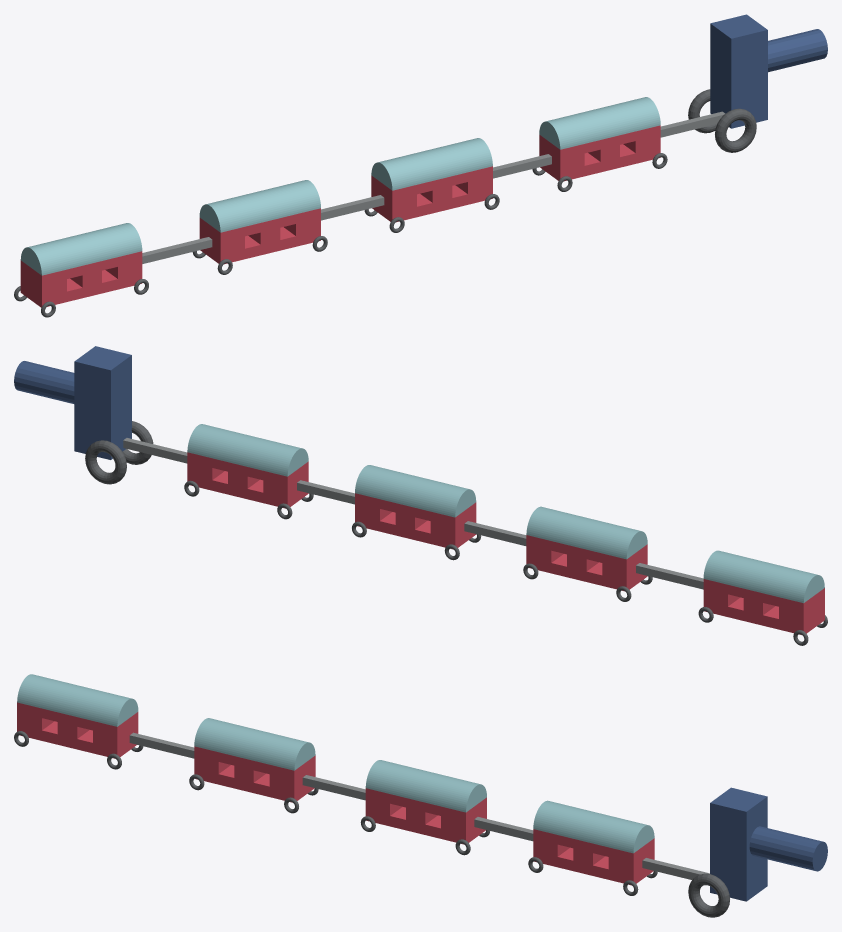
File: Project 150 - Train in the Dessert.glb
The picture shows the model from 3 angles, top to bottom: view 1: azimuth 30°, elevation 25°; view 2: azimuth 150°, elevation 25°; view 3: azimuth 330°, elevation 25°; orthographic projection.
Visible parts, largest first — view 1: Mesh_Mesh_head_geo.001_lambert2SG.001; view 2: Mesh_Mesh_head_geo.001_lambert2SG.001; view 3: Mesh_Mesh_head_geo.001_lambert2SG.001.
Part boxes in pixels (x1,y1,x2,y2): Mesh_Mesh_head_geo.001_lambert2SG.001: [14, 14, 827, 317]; Mesh_Mesh_head_geo.001_lambert2SG.001: [14, 346, 827, 645]; Mesh_Mesh_head_geo.001_lambert2SG.001: [14, 674, 827, 917].
Bounding box in the file's own units: 436 × 58.43 × 30.9.
